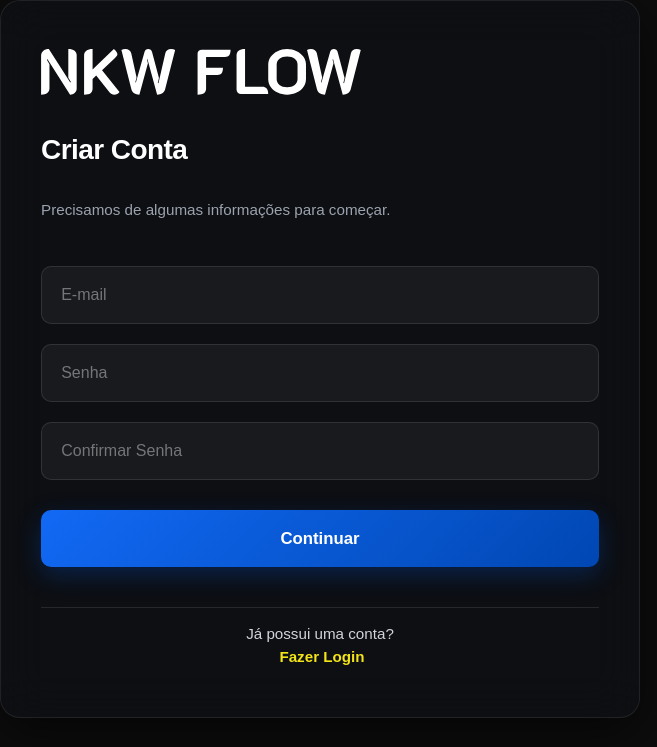
Test: RegisterForm › deve avançar para step 2, voltar e mostrar dados corretamente
Step 1. Type "teste@teste.com" into the field with placeholder "E-mail" → {"x": 320, "y": 295}, box left=41, top=266, right=599, bottom=324
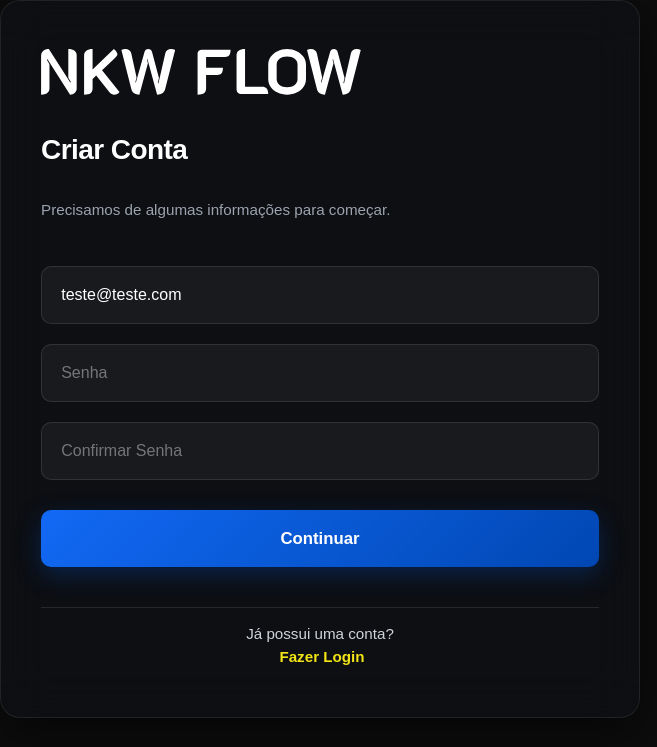
Step 2. Type "123456" into the password field with placeholder "Senha" → {"x": 320, "y": 373}, box left=41, top=344, right=599, bottom=402
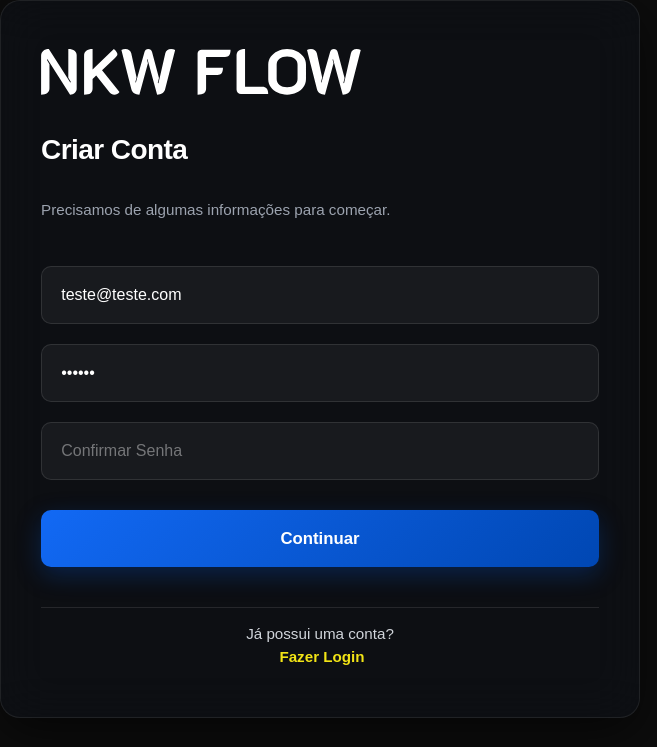
Step 3. Type "123456" into the password field with placeholder "Confirmar Senha" → {"x": 320, "y": 451}, box left=41, top=422, right=599, bottom=480
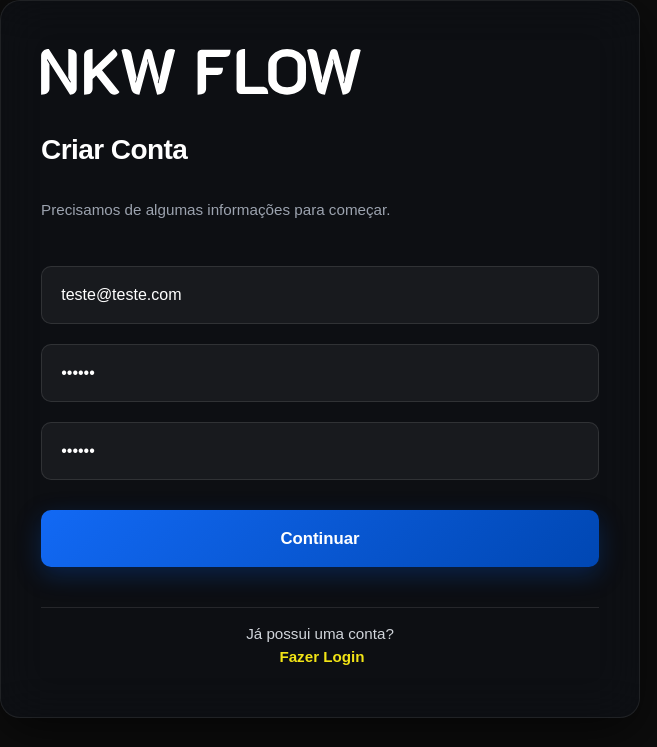
Note: go to step 2
Step 4. Click the button "Continuar" → {"x": 320, "y": 538}, box left=41, top=510, right=599, bottom=567
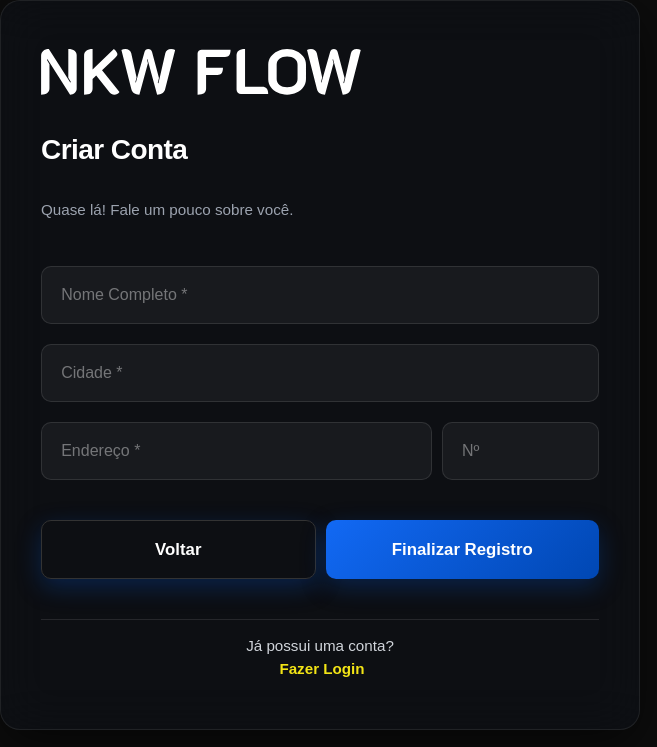
Result: the field with placeholder "E-mail" is gone
Result: the field with placeholder "Nome Completo *" is shown at left=41, top=266, right=599, bottom=324
Note: click back
Step 5. Click the button "Voltar" → {"x": 178, "y": 549}, box left=41, top=520, right=316, bottom=579
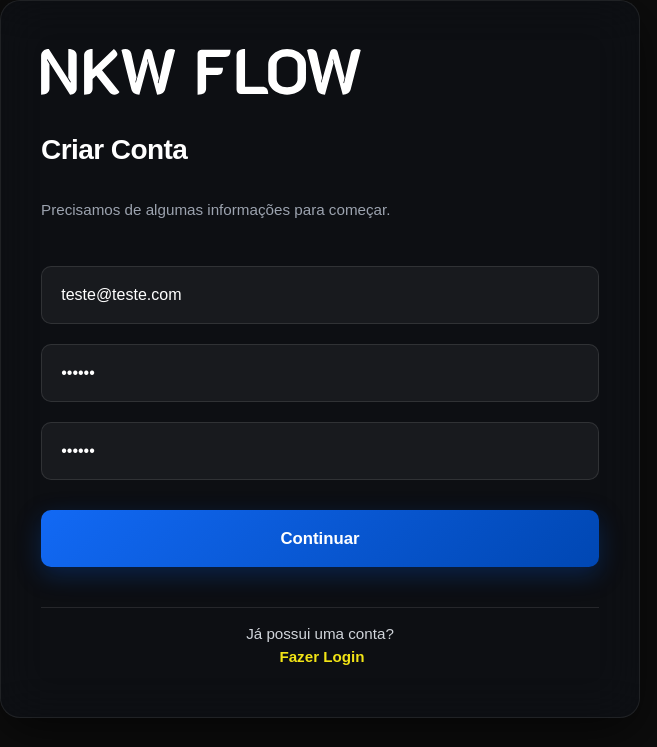
Result: the field with placeholder "E-mail" is shown at left=41, top=266, right=599, bottom=324
